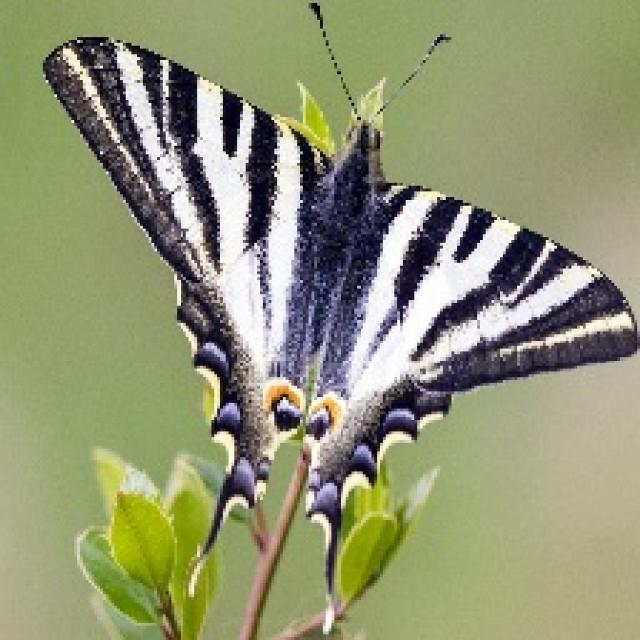butterfly: (37, 0, 637, 631)
